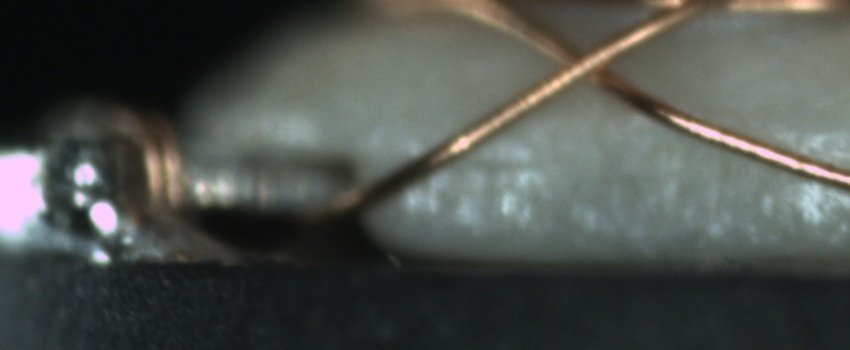CL: (536, 28, 632, 97)
DL: (408, 139, 551, 190)
TE: (101, 101, 190, 221)
